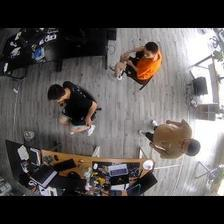normal: (137, 117, 200, 161), (50, 83, 99, 136), (107, 39, 162, 84)
